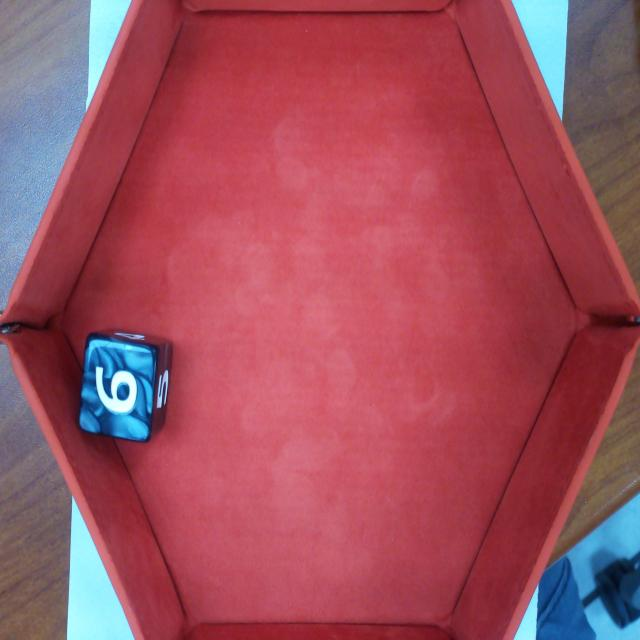dice: (80, 333, 159, 439)
